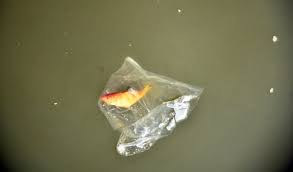plastic bag: (97, 56, 204, 158)
